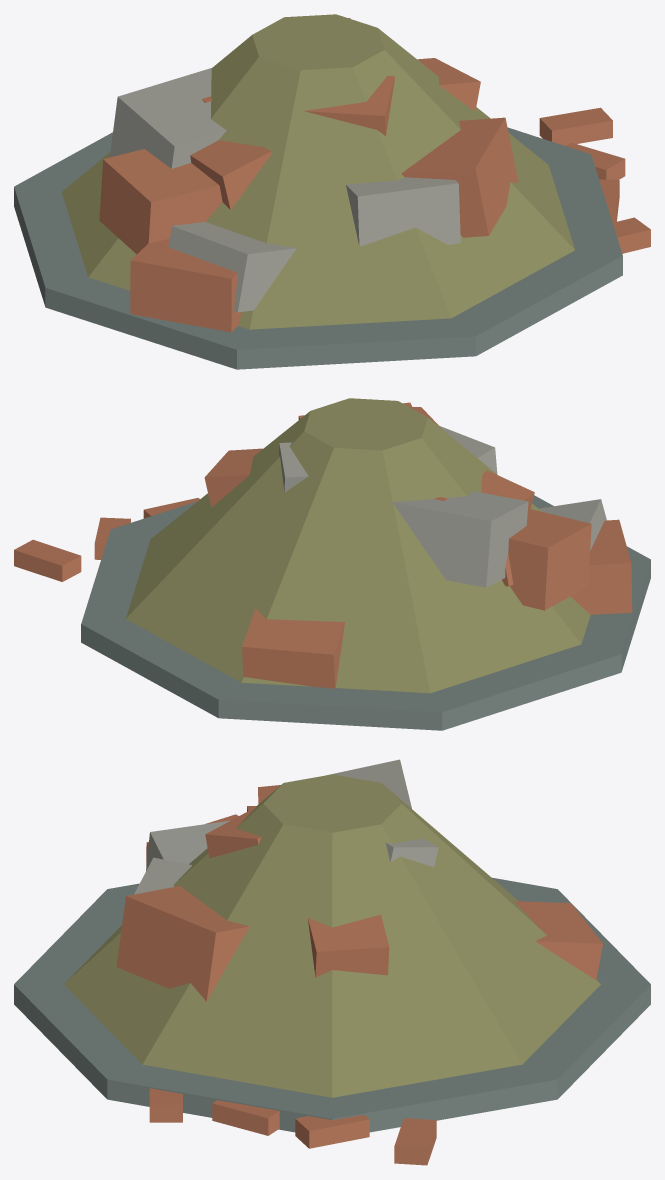
Rendered from SM_MontonEscombro_v1_Ladrillo_LOD0.fbx.
3 views of the same model, one above another, from view 1: azimuth 30°, elevation 25°; view 2: azimuth 150°, elevation 25°; view 3: azimuth 270°, elevation 25° (orthographic). The views are drawn at different scales.
Parts seen in each view (by area): view 1: SM_monton_escombro_v1_LOD0; view 2: SM_monton_escombro_v1_LOD0; view 3: SM_monton_escombro_v1_LOD0.
Boxes of the visible parts, box(x1,y1,x2,y2) form: SM_monton_escombro_v1_LOD0: box(14, 14, 650, 369); SM_monton_escombro_v1_LOD0: box(14, 398, 650, 730); SM_monton_escombro_v1_LOD0: box(14, 759, 650, 1165).
Size of the model in its own units: 2.54 by 0.8 by 2.3.
